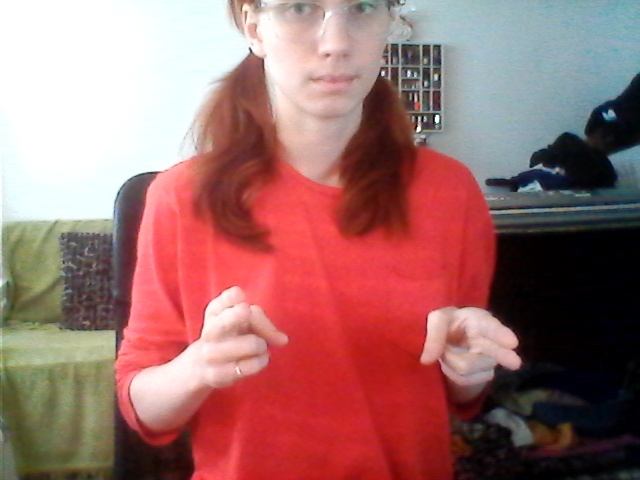ako: (189, 281, 529, 404)
